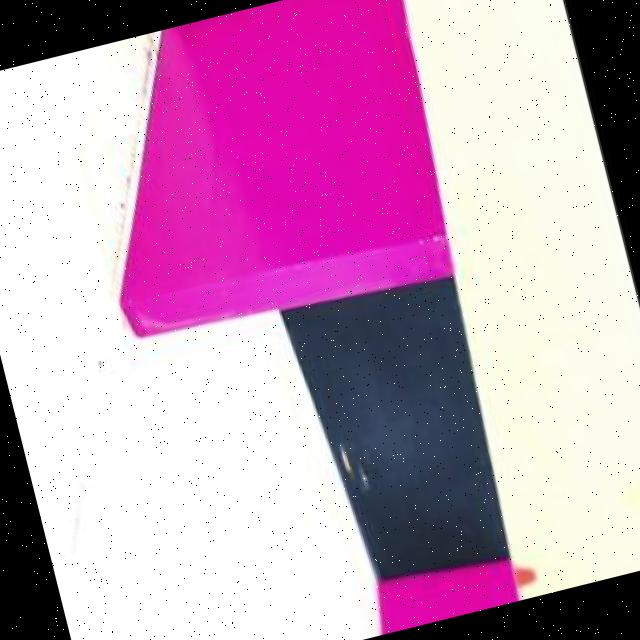xparking: (113, 0, 460, 334), (372, 555, 518, 634)
